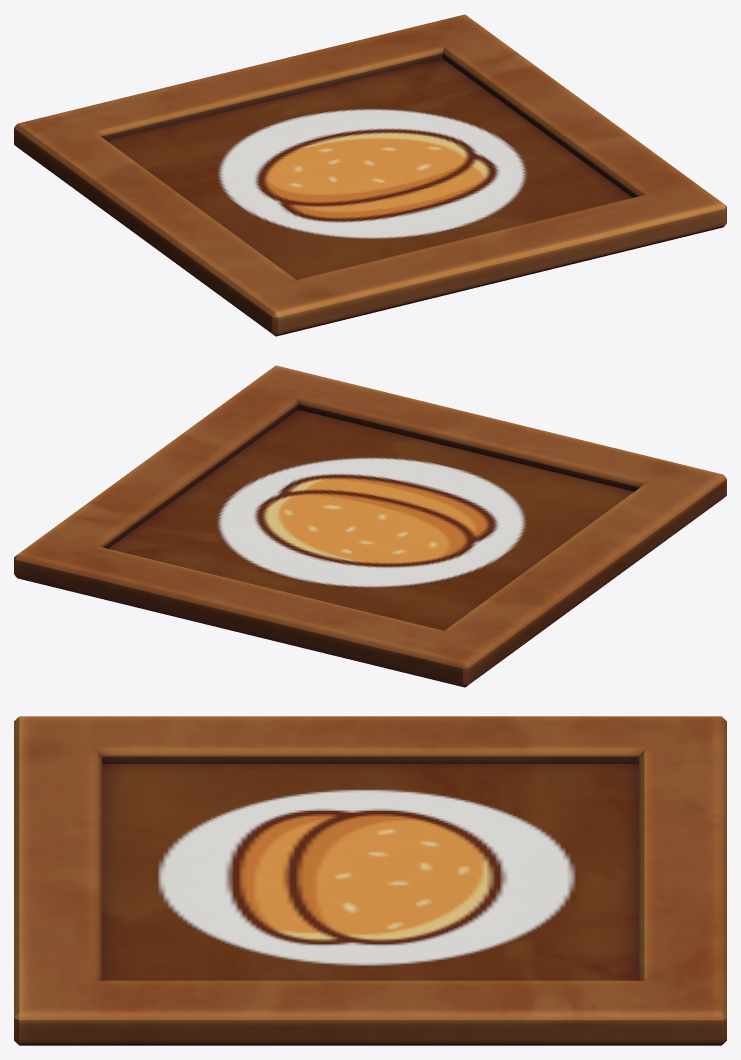
File: Plank.fbx
The picture shows the model from 3 angles, top to bottom: view 1: azimuth 30°, elevation 25°; view 2: azimuth 150°, elevation 25°; view 3: azimuth 270°, elevation 25°; orthographic projection. The views are drawn at different scales.
Parts seen in each view (by area): view 1: Ingredients_Box_Lid; view 2: Ingredients_Box_Lid; view 3: Ingredients_Box_Lid.
Boxes of the visible parts, x1,y1,x2,y2 form: Ingredients_Box_Lid: (14,14,726,336); Ingredients_Box_Lid: (14,365,726,687); Ingredients_Box_Lid: (14,716,726,1045).
Bounding box in the file's own units: 200 × 9.99 × 200.
